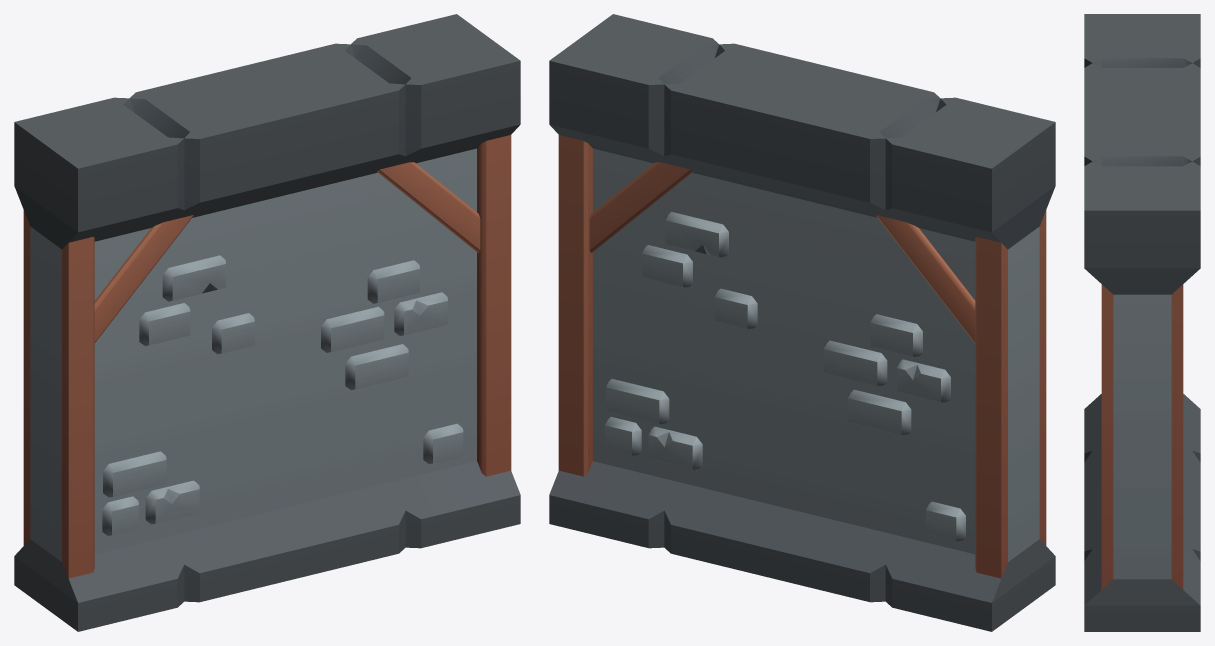
File: wall_scaffold.glb
The picture shows the model from 3 angles, left to right: view 1: azimuth 30°, elevation 25°; view 2: azimuth 150°, elevation 25°; view 3: azimuth 270°, elevation 25°; orthographic projection. The views are drawn at different scales.
Visible parts, largest first — view 1: wall_scaffold; view 2: wall_scaffold; view 3: wall_scaffold.
Part boxes in pixels (bbox=[...]): wall_scaffold: bbox=[14, 14, 520, 631]; wall_scaffold: bbox=[549, 14, 1055, 631]; wall_scaffold: bbox=[1084, 14, 1200, 631].
Bounding box in the file's own units: 4 × 4 × 1.
1 material, 1 textured.
